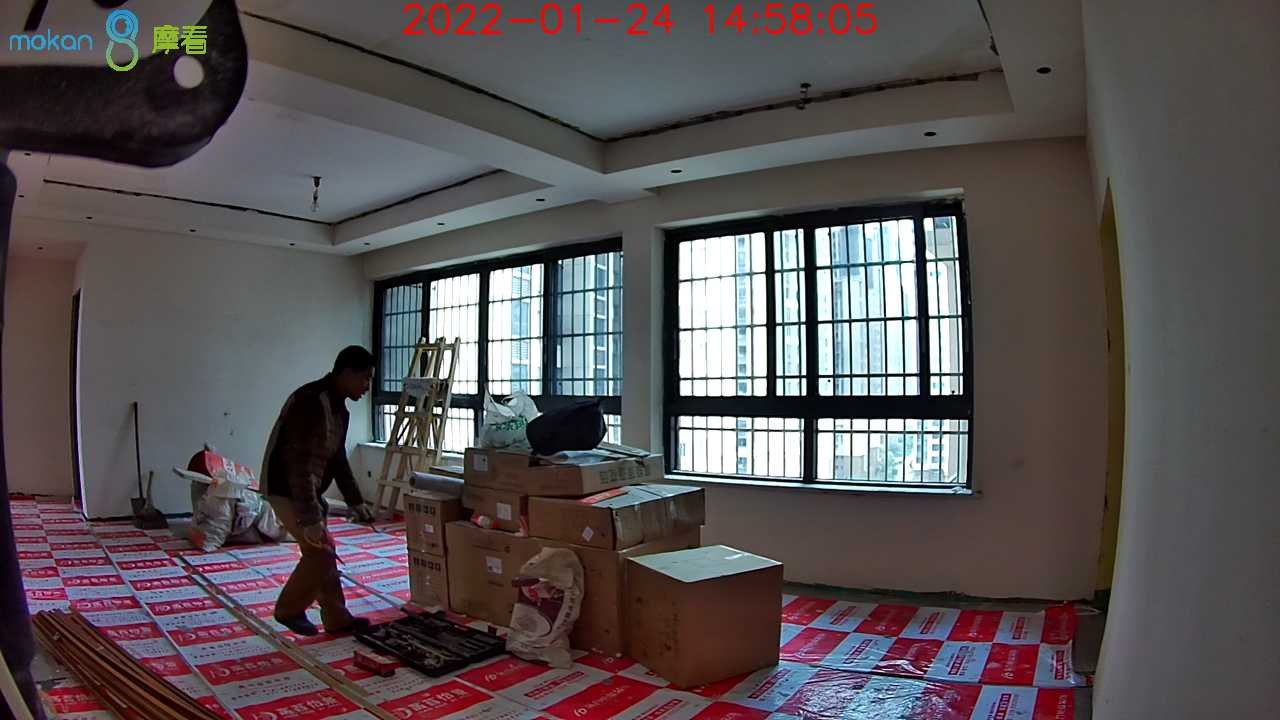people: (257, 345, 379, 633)
window: (371, 209, 975, 487)
